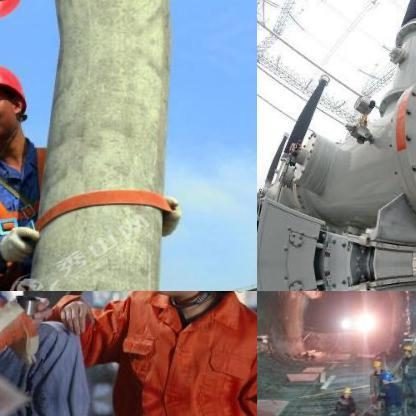Helmet: (0, 46, 36, 156), (0, 0, 37, 35), (340, 382, 352, 398), (378, 370, 390, 384), (400, 342, 410, 358), (372, 356, 382, 372)
